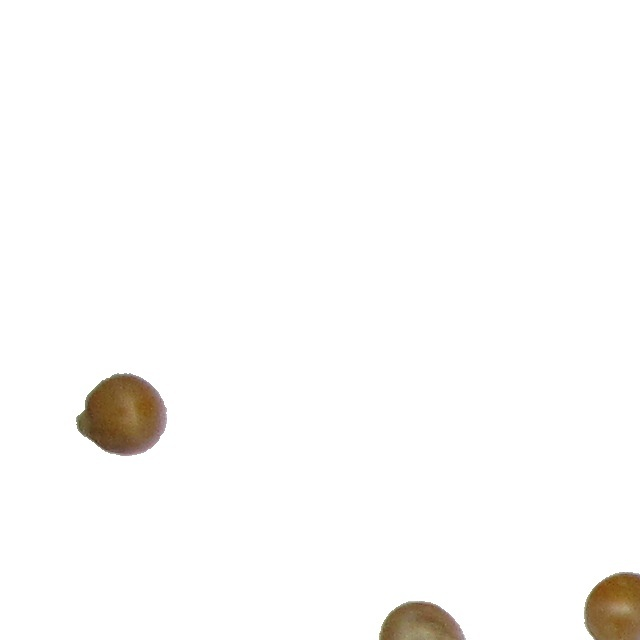mais: (75, 372, 168, 457), (583, 571, 640, 640), (377, 600, 468, 640)
